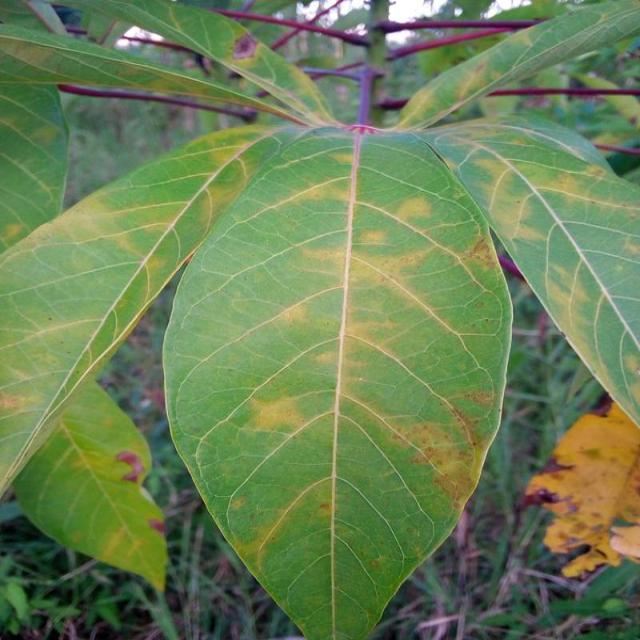cassava leaf: (1, 1, 638, 637), (161, 124, 514, 638), (0, 122, 304, 501), (419, 110, 639, 430), (10, 374, 168, 593)
